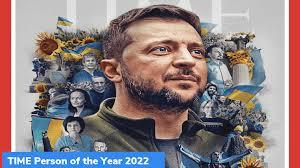Persons: (101, 4, 220, 106)
